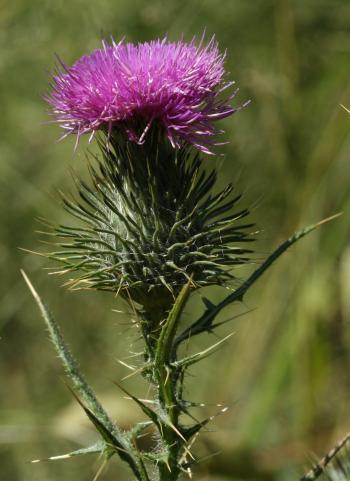thistle: (42, 40, 261, 299)
